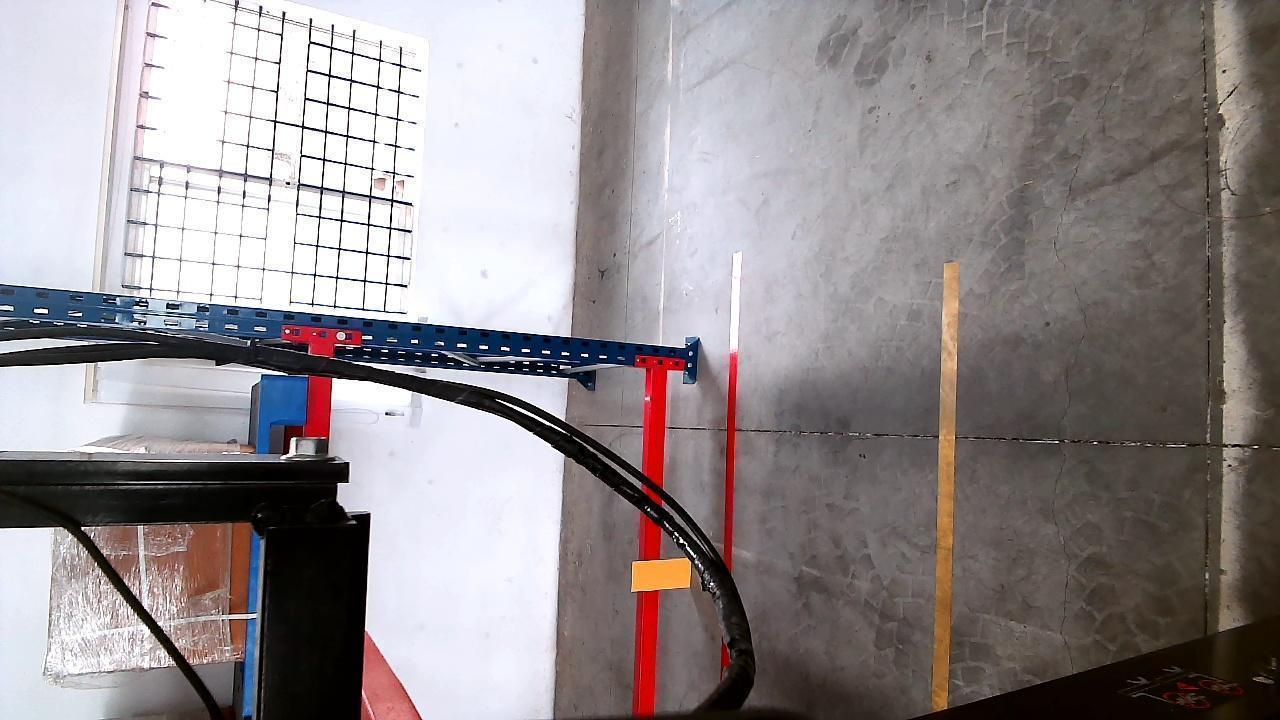red_line: (718, 351, 742, 568)
yellow_line: (933, 263, 960, 702)
